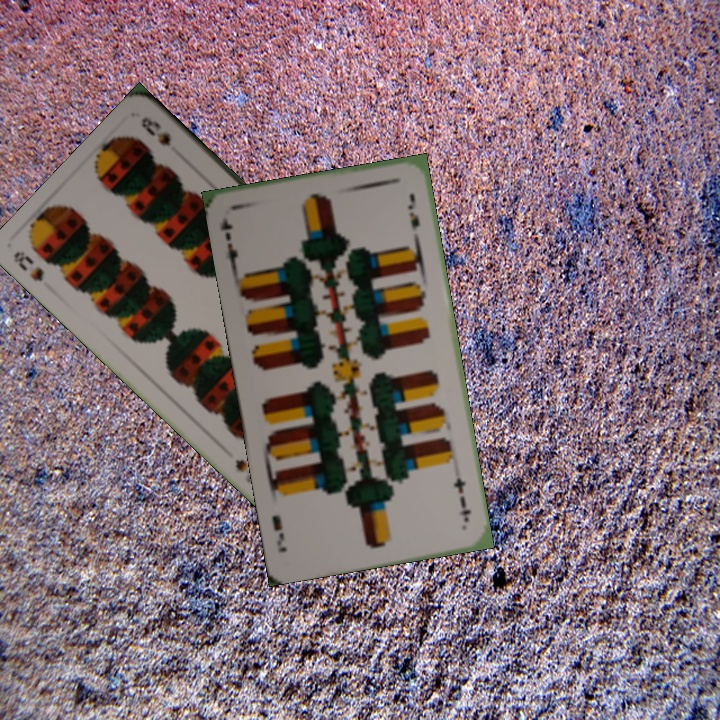E7: (216, 213, 240, 272), (449, 473, 474, 525)
S8: (9, 247, 47, 285)
